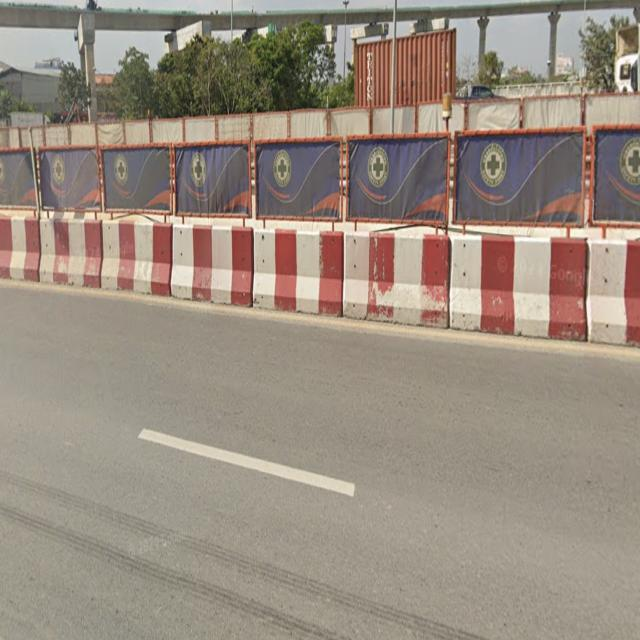fallen_object: (426, 207, 640, 386), (317, 213, 446, 351), (233, 210, 346, 335), (160, 209, 259, 328), (89, 197, 186, 306), (37, 203, 112, 307), (0, 199, 45, 288)
